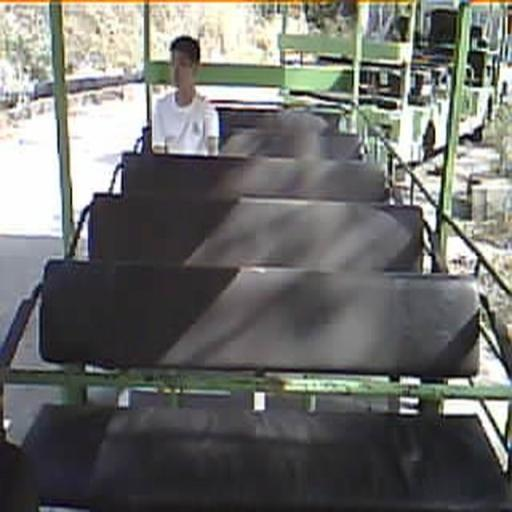persona: (151, 34, 220, 156)
